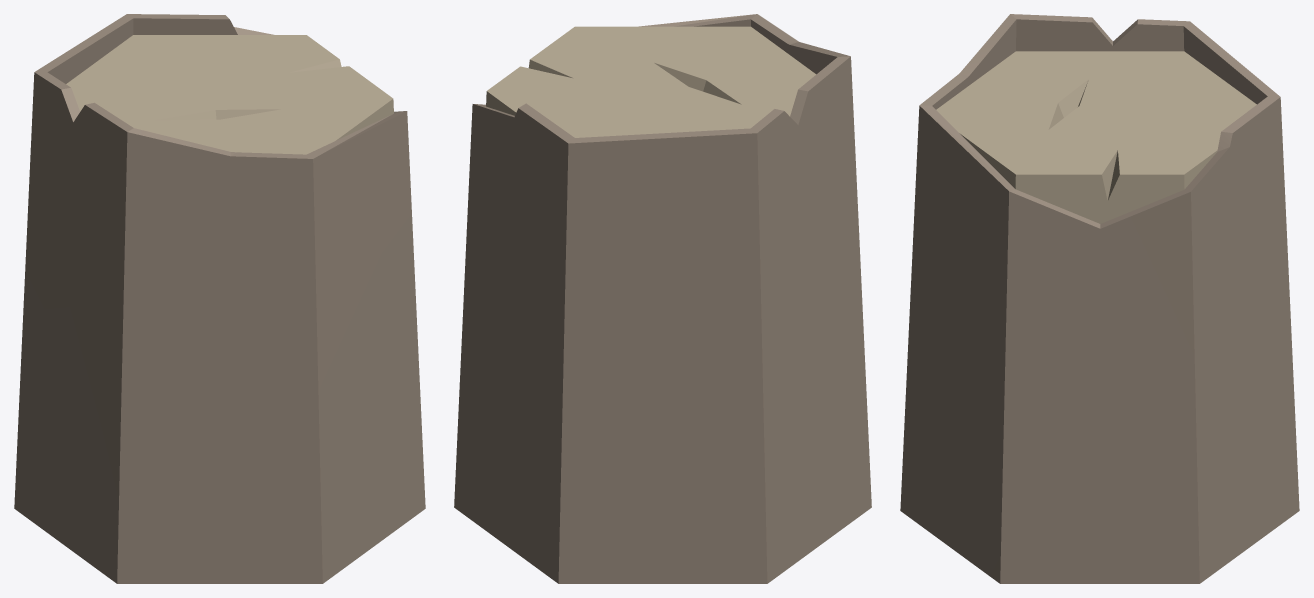
The model's file is Prop_Stump.glb.
The picture shows the model from 3 angles, left to right: view 1: azimuth 30°, elevation 25°; view 2: azimuth 150°, elevation 25°; view 3: azimuth 270°, elevation 25°; orthographic projection. The views are drawn at different scales.
Visible parts, largest first — view 1: Prop_Stump_Merged; view 2: Prop_Stump_Merged; view 3: Prop_Stump_Merged.
Boxes of the visible parts, x1=… form: Prop_Stump_Merged: x1=14, y1=14, x2=425, y2=583; Prop_Stump_Merged: x1=454, y1=14, x2=871, y2=583; Prop_Stump_Merged: x1=900, y1=14, x2=1299, y2=583.
Bounding box in the file's own units: 0.433 × 0.5959 × 0.5.
